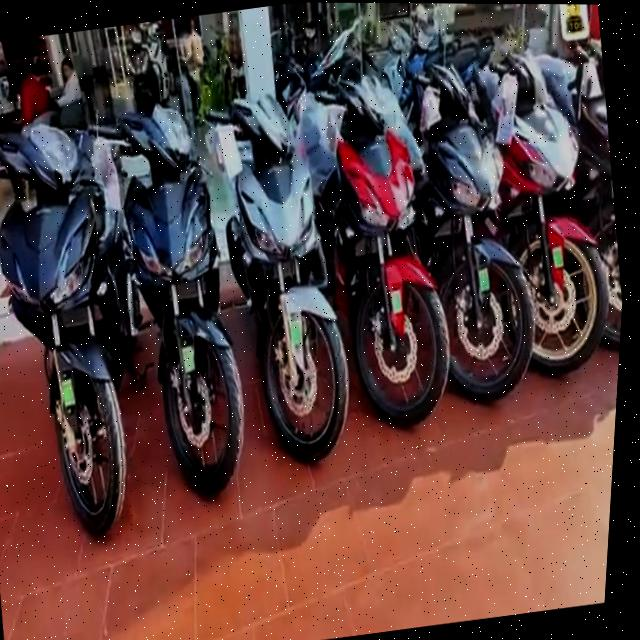motorcycle: (81, 81, 281, 507), (173, 73, 382, 478), (0, 91, 172, 557), (300, 65, 486, 444), (381, 54, 564, 420), (476, 35, 638, 404)
